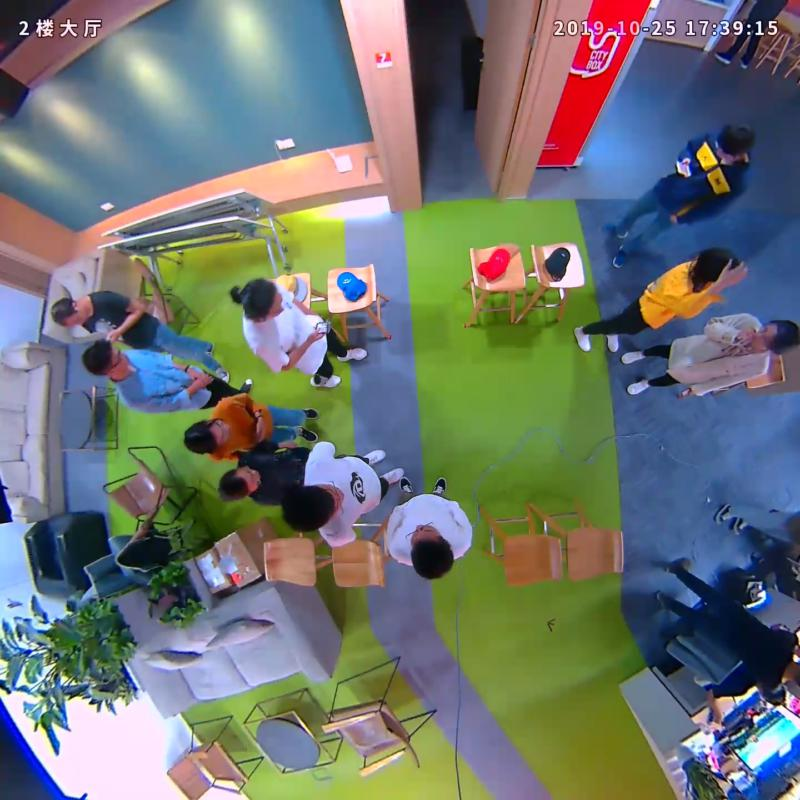head: (282, 484, 345, 531), (411, 523, 453, 580), (238, 278, 283, 322), (695, 248, 743, 288), (82, 339, 131, 378), (217, 465, 262, 503), (750, 319, 800, 352), (182, 419, 230, 453), (716, 122, 753, 162), (50, 297, 89, 327)
